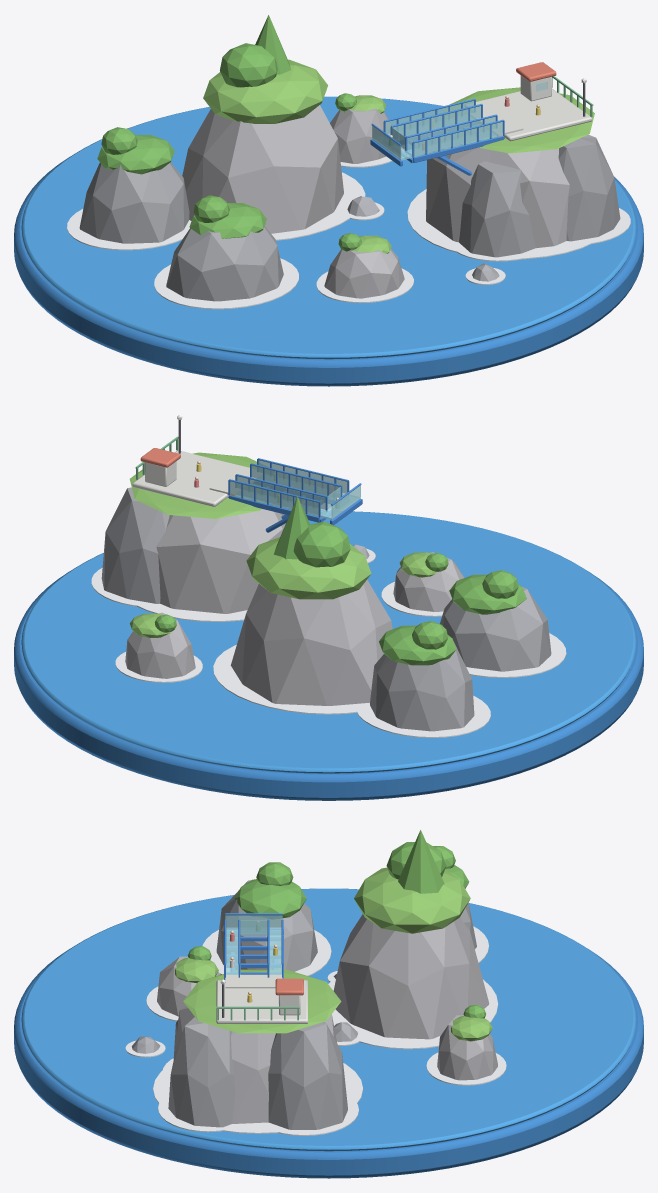
File: oryookdo.glb
3 views of the same model, one above another, from view 1: azimuth 30°, elevation 25°; view 2: azimuth 150°, elevation 25°; view 3: azimuth 270°, elevation 25° (orthographic).
Parts seen in each view (by area): view 1: Sea_Top.001, Sea_Base.001, Island_Big, Mainland, Island_LeftBack, Island_LeftFront, Mainland_Chunk1, Island_Big_Moss, Mainland_Chunk2, Island_Small, Plaza, Island_RightBack (+20 smaller); view 2: Sea_Top.001, Sea_Base.001, Island_Big, Mainland, Island_LeftBack, Island_LeftFront, Mainland_Chunk0, Island_Big_Moss, Island_RightBack, Plaza, Mainland_Grass, Island_Small (+21 smaller); view 3: Sea_Top.001, Sea_Base.001, Island_Big, Mainland_Chunk0, Mainland_Chunk2, Island_Big_Moss, Mainland, Island_LeftFront, Mainland_Grass, Plaza, Island_RightBack, Island_LeftFront_Moss (+16 smaller).
Part boxes in pixels (x1=…): Sea_Top.001: x1=21, y1=96, x2=636, y2=359; Sea_Base.001: x1=14, y1=157, x2=643, y2=386; Island_Big: x1=182, y1=105, x2=343, y2=233; Mainland: x1=426, y1=146, x2=569, y2=248; Island_LeftBack: x1=79, y1=162, x2=189, y2=243; Island_LeftFront: x1=166, y1=226, x2=283, y2=301; Mainland_Chunk1: x1=459, y1=161, x2=535, y2=257; Island_Big_Moss: x1=203, y1=59, x2=327, y2=123; Mainland_Chunk2: x1=558, y1=134, x2=620, y2=241; Island_Small: x1=324, y1=249, x2=404, y2=298; Plaza: x1=465, y1=88, x2=591, y2=141; Island_RightBack: x1=330, y1=108, x2=390, y2=163; Sea_Top.001: x1=21, y1=511, x2=636, y2=773; Sea_Base.001: x1=14, y1=571, x2=643, y2=800; Island_Big: x1=230, y1=579, x2=392, y2=705; Mainland: x1=156, y1=505, x2=285, y2=613; Island_LeftBack: x1=370, y1=641, x2=474, y2=731; Island_LeftFront: x1=440, y1=587, x2=551, y2=671; Mainland_Chunk0: x1=101, y1=487, x2=169, y2=603; Island_Big_Moss: x1=246, y1=537, x2=371, y2=599; Island_RightBack: x1=125, y1=612, x2=195, y2=678; Plaza: x1=132, y1=450, x2=256, y2=506; Mainland_Grass: x1=129, y1=452, x2=266, y2=518; Island_Small: x1=393, y1=552, x2=463, y2=611; Sea_Top.001: x1=21, y1=888, x2=636, y2=1151; Sea_Base.001: x1=14, y1=949, x2=643, y2=1178; Island_Big: x1=333, y1=914, x2=489, y2=1039; Mainland_Chunk0: x1=268, y1=1021, x2=347, y2=1129; Mainland_Chunk2: x1=168, y1=1017, x2=235, y2=1127; Island_Big_Moss: x1=354, y1=867, x2=470, y2=933; Mainland: x1=175, y1=1006, x2=336, y2=1123; Island_LeftFront: x1=216, y1=880, x2=317, y2=971; Mainland_Grass: x1=183, y1=969, x2=341, y2=1033; Plaza: x1=216, y1=980, x2=307, y2=1023; Island_RightBack: x1=437, y1=1015, x2=497, y2=1080; Island_LeftFront_Moss: x1=234, y1=879, x2=306, y2=918.
Bounding box in the file's own units: 7.56 × 2.79 × 7.56.
